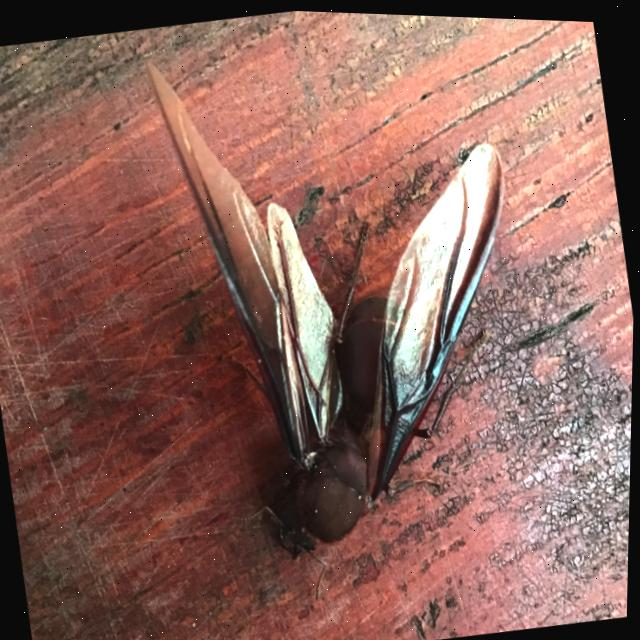Alive-Female-Alate: (133, 4, 572, 622)
